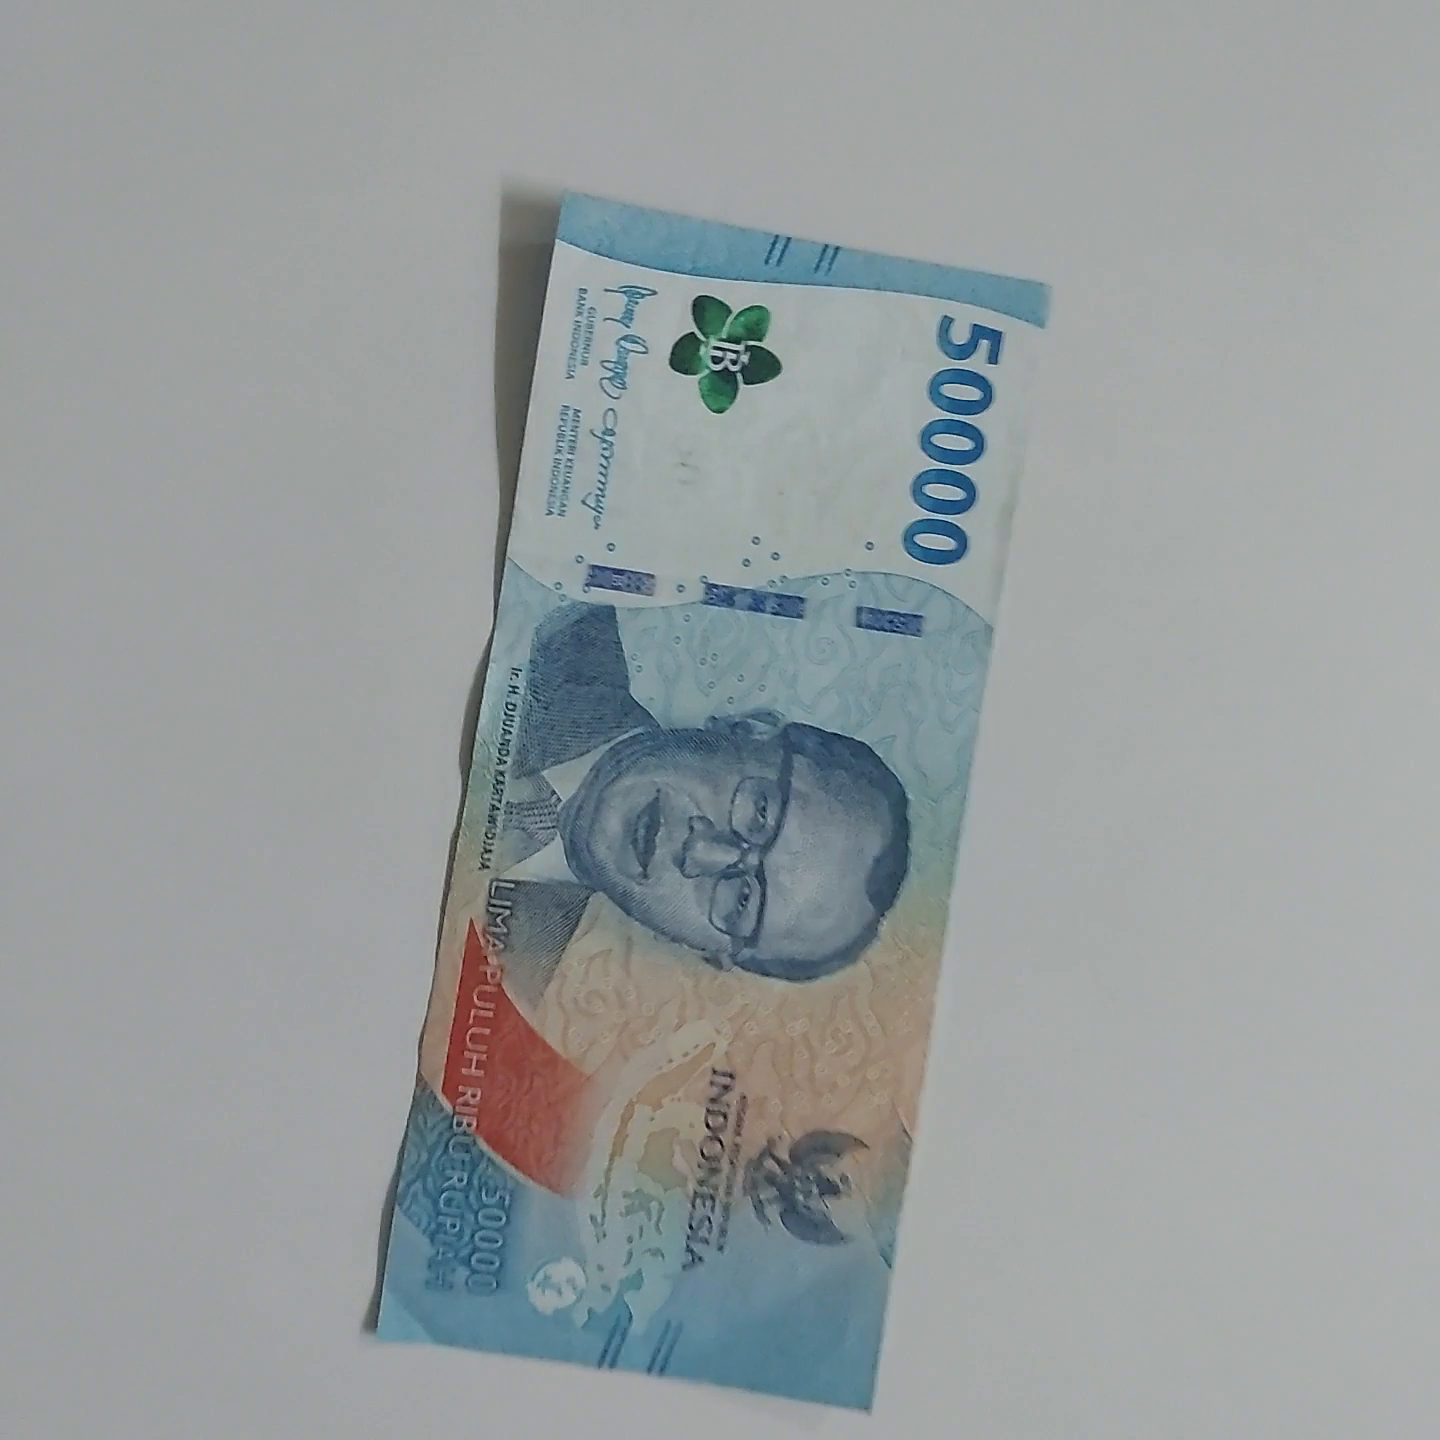50k: (555, 183, 1075, 1371)
